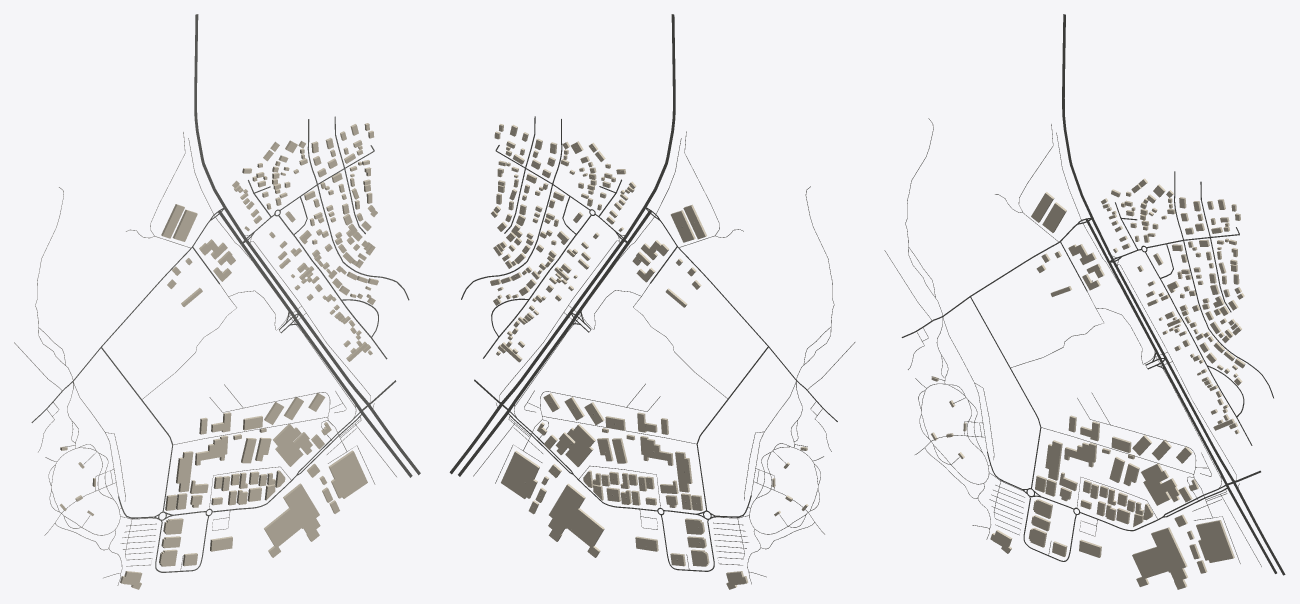
The model's file is historic-palestine-07_27_3489_3213.glb.
The picture shows the model from 3 angles, left to right: view 1: azimuth 30°, elevation 25°; view 2: azimuth 150°, elevation 25°; view 3: azimuth 330°, elevation 25°; orthographic projection.
Visible parts, largest first — view 1: Building_, Road דרך רמתיים, Building_.160, Road דרך רמתיים.002, Building_.001, Building_.211, Building_.188; view 2: Building_, Road דרך רמתיים, Building_.160, Road דרך רמתיים.002, Building_.001, Building_.211, Building_.188; view 3: Building_, Road דרך רמתיים, Building_.160, Road דרך רמתיים.002, Building_.001, Building_.211, Building_.188.
Part boxes in pixels (x1,y1,x2,y2): Building_: (264,483,320,557); Road דרך רמתיים: (194,14,420,475); Building_.160: (328,450,367,498); Road דרך רמתיים.002: (241,243,412,477); Building_.001: (273,424,312,466); Building_.211: (195,435,228,465); Building_.188: (176,451,193,492); Building_: (548,483,604,557); Road דרך רמתיים: (449,14,675,474); Building_.160: (501,450,539,498); Road דרך רמתיים.002: (458,243,628,476); Building_.001: (555,424,595,466); Building_.211: (640,436,673,465); Building_.188: (675,451,692,492); Building_: (1132,527,1187,589); Road דרך רמתיים: (1062,14,1285,575); Building_.160: (1196,520,1234,562); Road דרך רמתיים.002: (1108,262,1276,573); Building_.001: (1141,463,1180,505); Building_.211: (1064,442,1096,467); Building_.188: (1045,440,1062,480).
Size of the model in its own units: 1173 by 1550 by 8.7.
